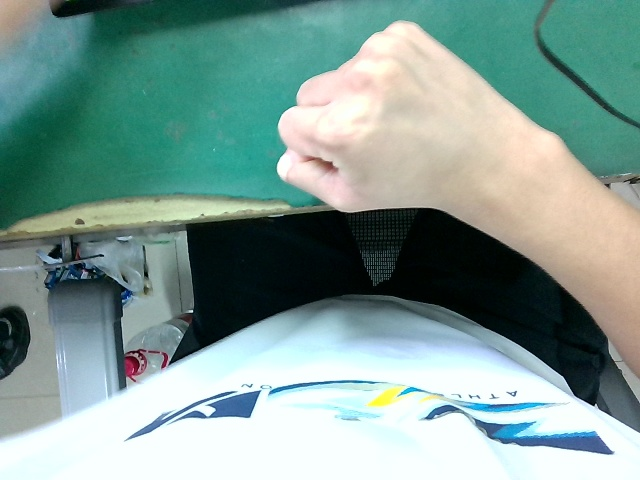stone: (266, 5, 556, 249)
